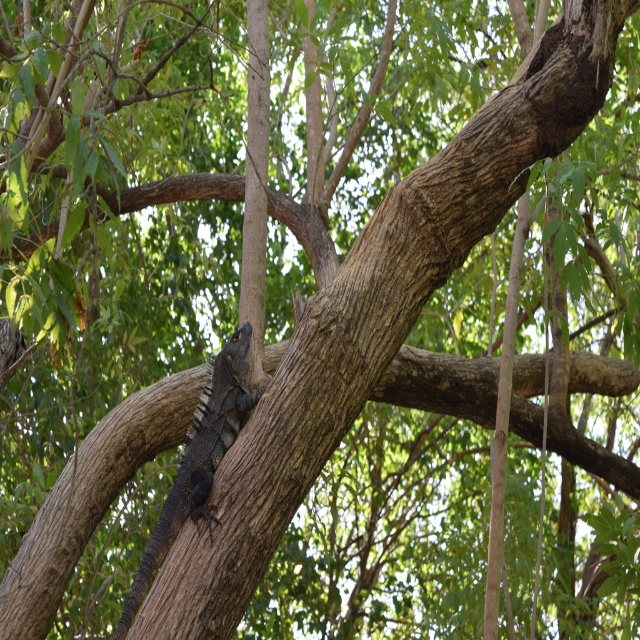Lizard: (112, 317, 272, 639)
